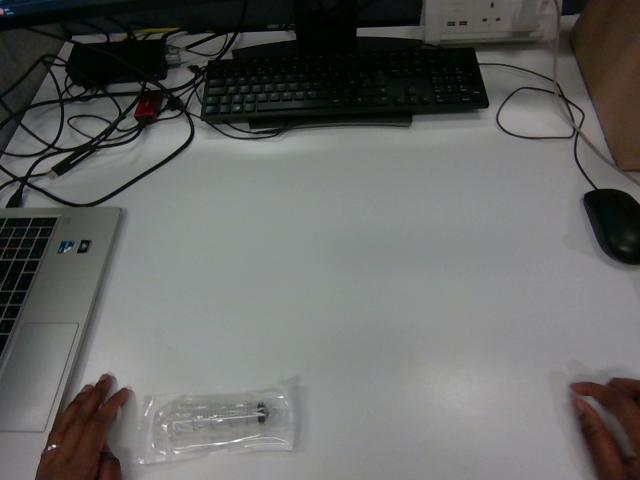syringe: (137, 385, 295, 463)
